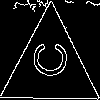C: (25, 41, 68, 79)
